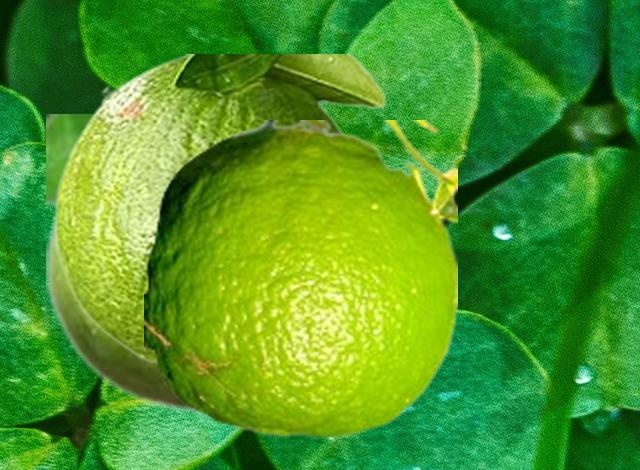dalandan: (53, 54, 386, 368), (144, 120, 456, 437), (46, 114, 216, 424)
